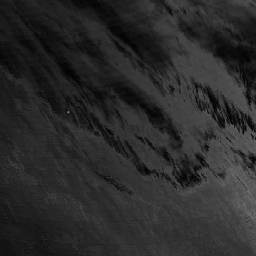Target: (65, 110, 69, 115)
